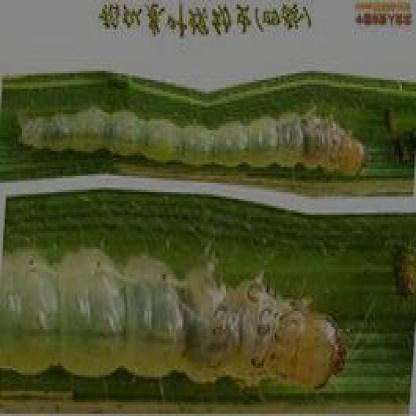leaf-folder: (20, 219, 354, 393), (11, 92, 374, 184)
